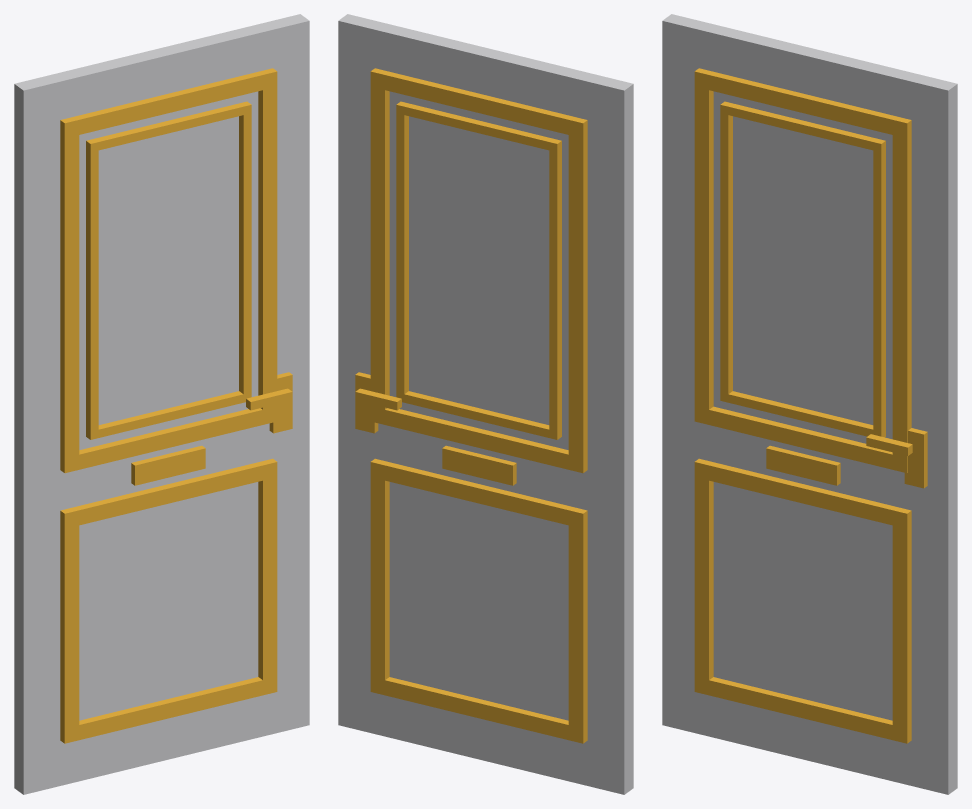
Rendered from SM_Door_obelisk_inner_90x210.fbx.
The picture shows the model from 3 angles, left to right: view 1: azimuth 30°, elevation 25°; view 2: azimuth 150°, elevation 25°; view 3: azimuth 330°, elevation 25°; orthographic projection.
Visible parts, largest first — view 1: SM_Door_obelisk_inner_90x210; view 2: SM_Door_obelisk_inner_90x210; view 3: SM_Door_obelisk_inner_90x210.
Part boxes in pixels (x1,y1,x2,y2): SM_Door_obelisk_inner_90x210: (14, 14, 309, 794); SM_Door_obelisk_inner_90x210: (338, 14, 633, 794); SM_Door_obelisk_inner_90x210: (662, 14, 957, 794).
Bounding box in the file's own units: 0.888 × 2.09 × 0.175.
